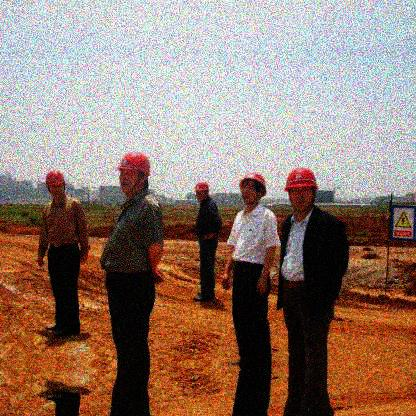helmet: (116, 153, 152, 194), (286, 170, 318, 213), (239, 173, 267, 207), (45, 171, 66, 199), (195, 181, 211, 201)
